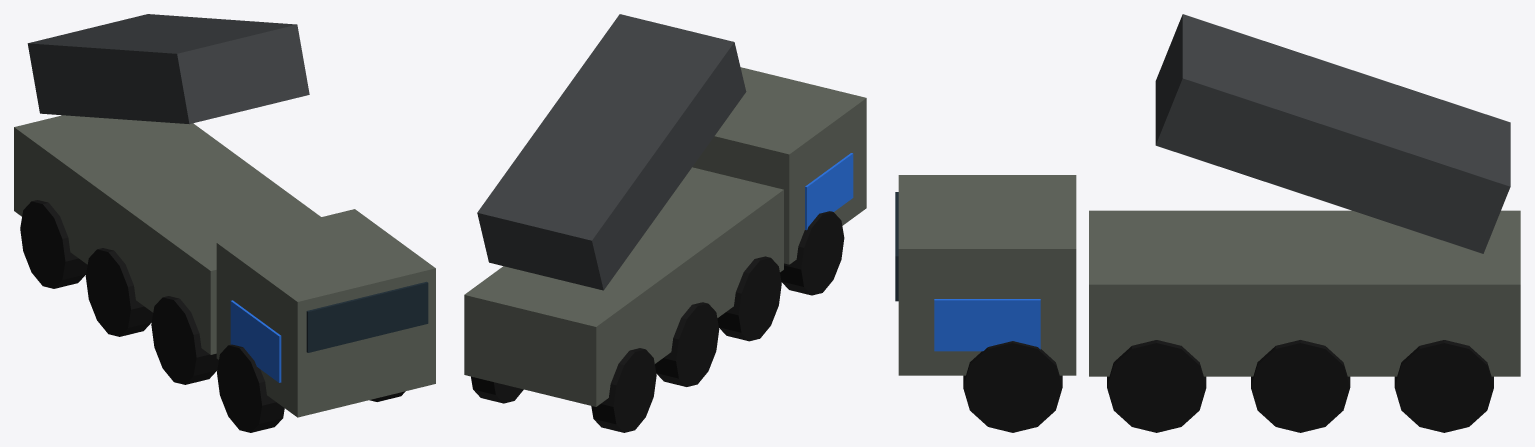
Rendered from eu_lr_sam.glb.
3 renders of one model, left to right at view 1: azimuth 30°, elevation 25°; view 2: azimuth 150°, elevation 25°; view 3: azimuth 270°, elevation 25°, orthographic. The views are drawn at different scales.
Parts seen in each view (by area): view 1: body, cab, launcher, windshield, wheel_l1, wheel_l3, wheel_l2, wheel_l0, team_door_l; view 2: launcher, body, cab, wheel_l3, wheel_l1, wheel_l2, wheel_l0, team_door_l, wheel_r3; view 3: body, launcher, cab, wheel_r1, wheel_r3, wheel_r2, wheel_r0, team_door_r.
Part boxes in pixels (x1,y1,x2,y2): body: (14,115,320,354); cab: (216,209,435,417); launcher: (27,14,309,124); windshield: (306,281,428,352); wheel_l1: (151,296,218,384); wheel_l3: (20,200,87,288); wheel_l2: (85,248,152,336); wheel_l0: (217,344,284,432); team_door_l: (230,300,281,382); launcher: (477,14,746,290); body: (464,167,783,406); cab: (692,67,866,264); wheel_l3: (591,348,656,432); wheel_l1: (717,256,781,341); wheel_l2: (655,302,719,386); wheel_l0: (780,211,844,295); team_door_l: (805,153,853,230); wheel_r3: (471,376,523,403); body: (1089,210,1520,376); launcher: (1155,14,1510,253); cab: (898,175,1076,375); wheel_r1: (1107,340,1206,432); wheel_r3: (1394,340,1493,432); wheel_r2: (1251,340,1350,432); wheel_r0: (963,341,1062,432); team_door_r: (934,299,1040,351).
Size of the model in its own units: 2.7 by 5.42 by 8.86.
